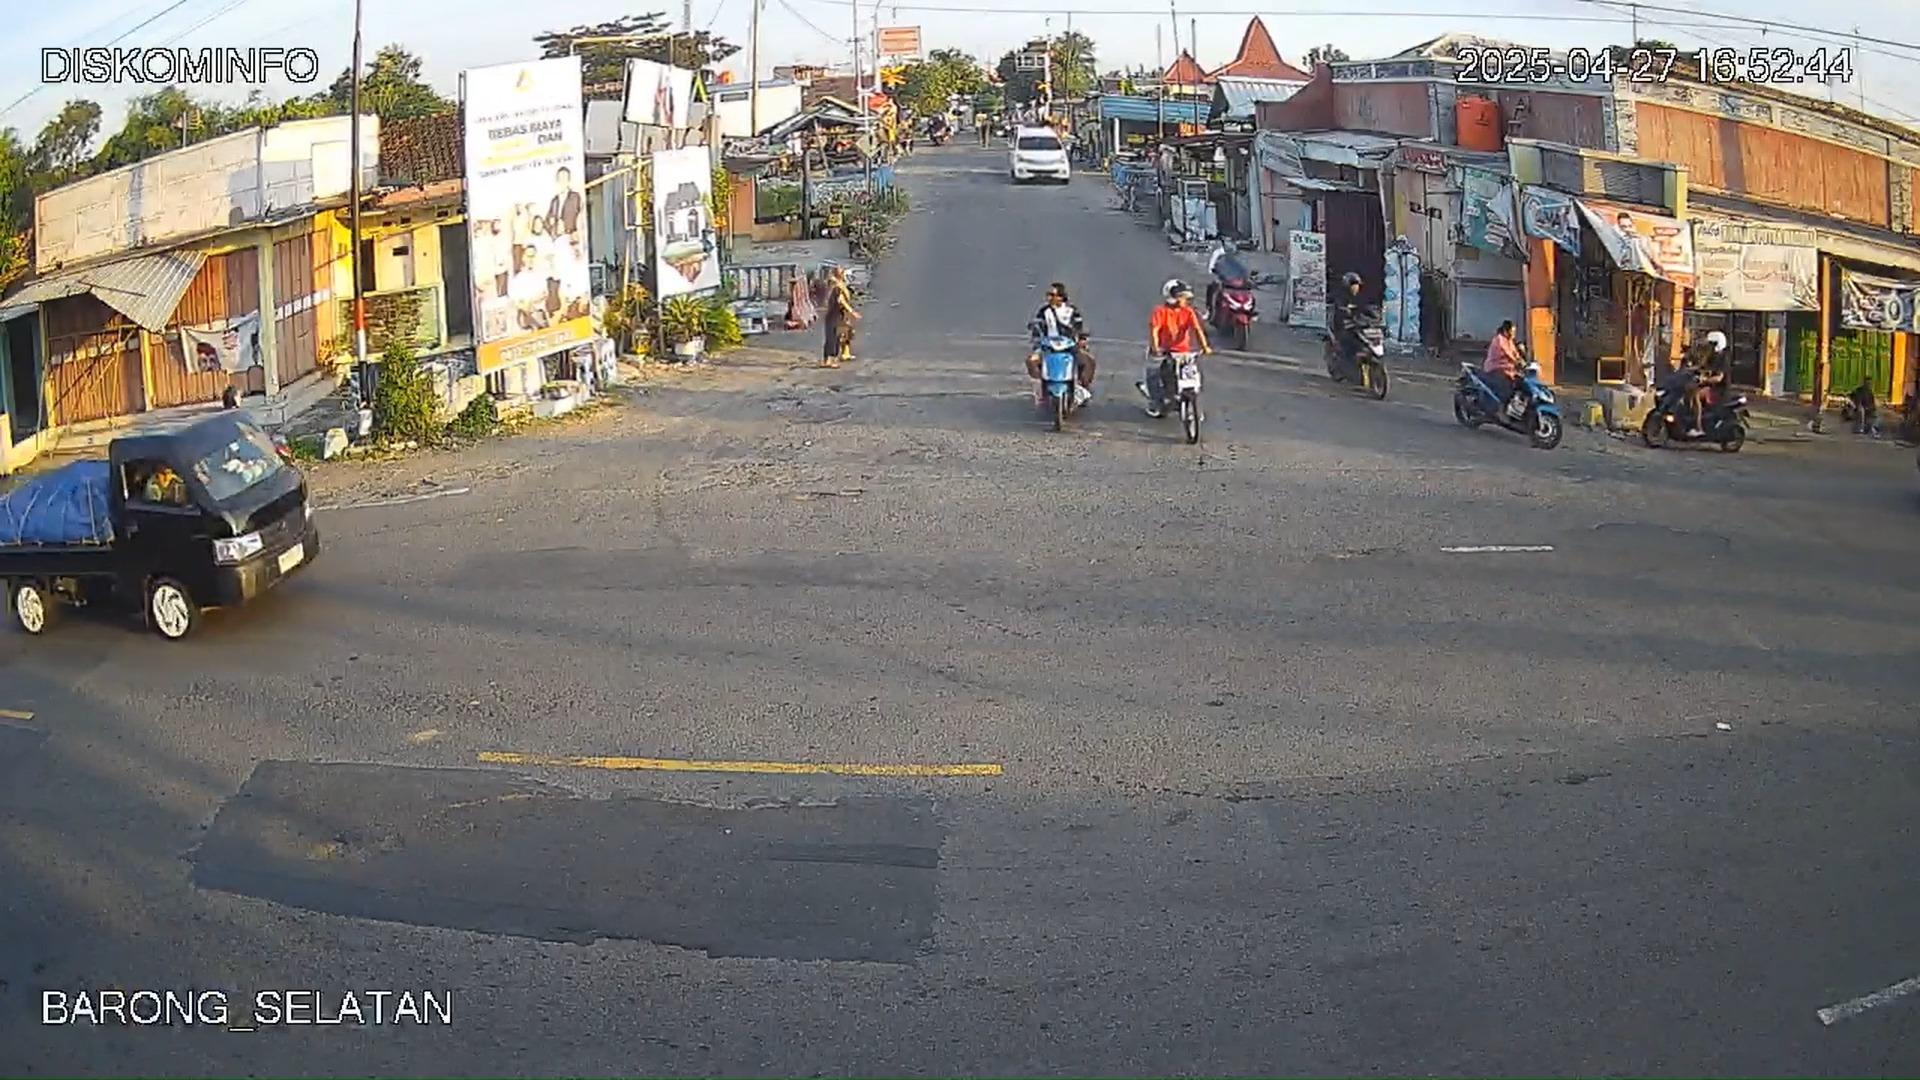Motor: (1139, 295, 1215, 455), (1452, 356, 1561, 451), (1639, 365, 1747, 454), (1019, 316, 1089, 434), (1323, 302, 1391, 400)
mobil: (1007, 125, 1069, 186)
